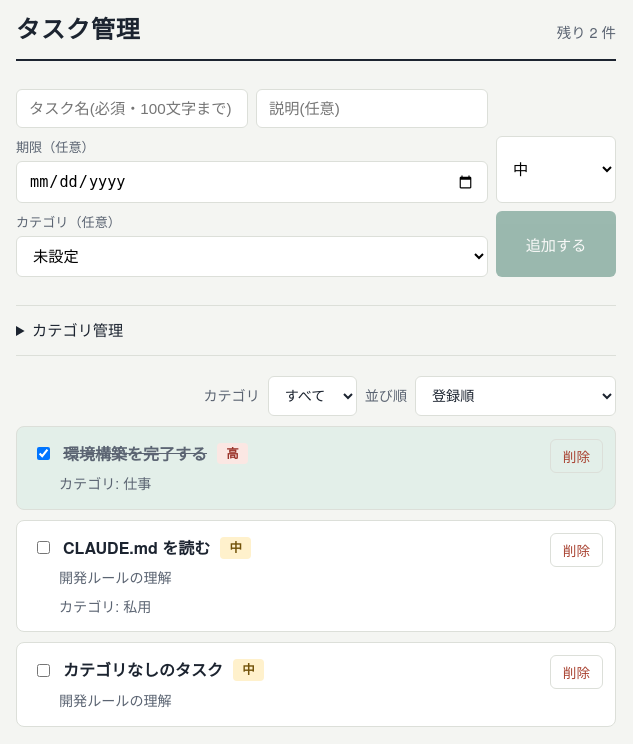
it: App › 各カテゴリで絞り込めて0件からすべてに戻すと未設定も表示される
expect the text "カテゴリなしのタスク" is shown: met, box left=63, top=657, right=223, bottom=683
Select "仕事" in the dropdown named "カテゴリで絞り込み" at (312, 396), box left=268, top=376, right=357, bottom=416
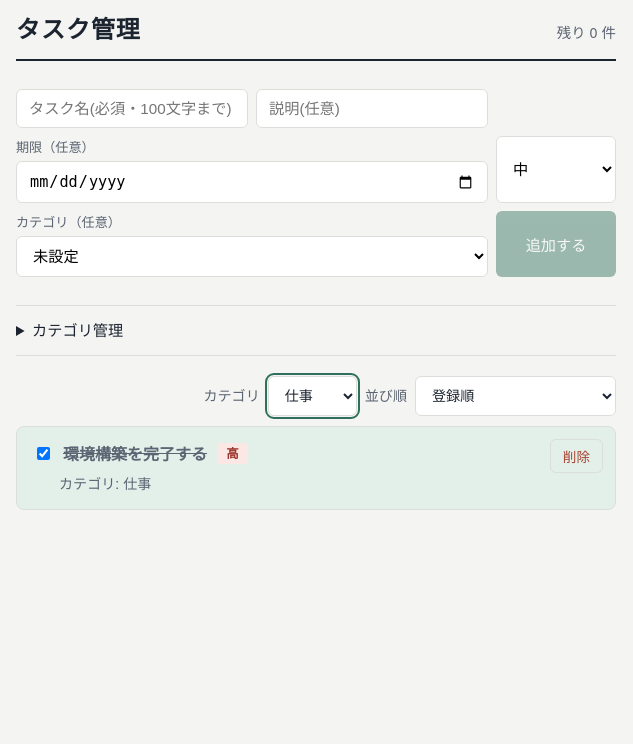
expect the text "環境構築を完了する" is shown: met, box left=63, top=441, right=207, bottom=466
expect the text "CLAUDE.md を読む" is gone: met
expect the text "カテゴリなしのタスク" is gone: met
Select "私用" in the dropdown named "カテゴリで絞り込み" at (312, 396), box left=268, top=376, right=357, bottom=416
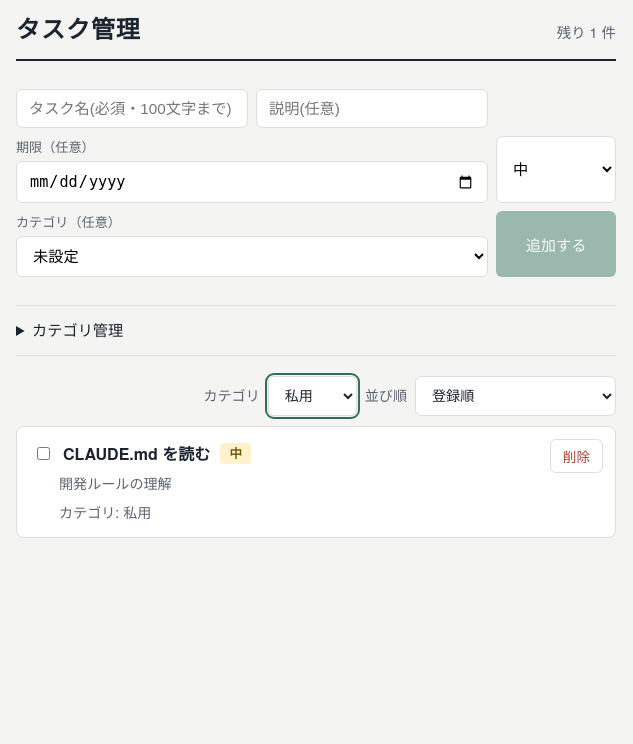
expect the text "CLAUDE.md を読む" is shown: met, box left=63, top=441, right=210, bottom=466
expect the text "環境構築を完了する" is gone: met
Select "勉強" in the dropdown named "カテゴリで絞り込み" at (312, 396), box left=268, top=376, right=357, bottom=416
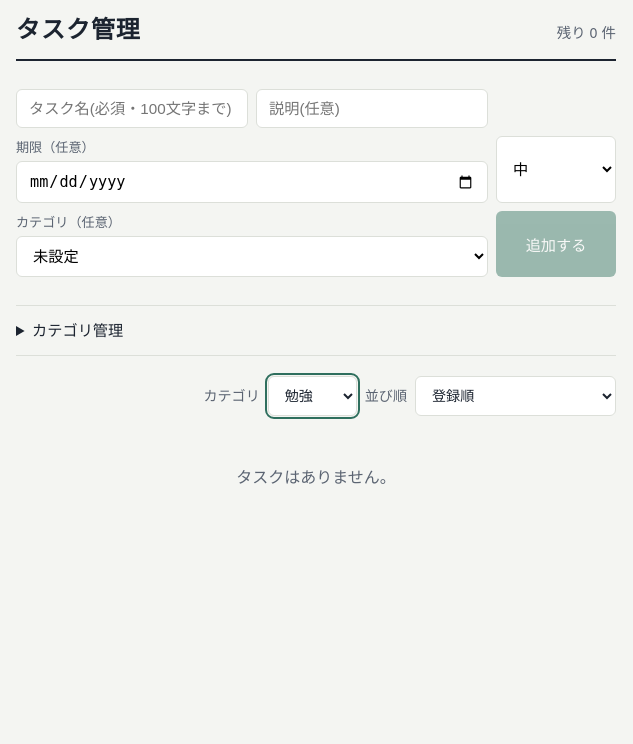
expect the text "タスクはありません。" is shown: met, box left=236, top=465, right=396, bottom=488
Select "すべて" in the dropdown named "カテゴリで絞り込み" at (312, 396), box left=268, top=376, right=357, bottom=416
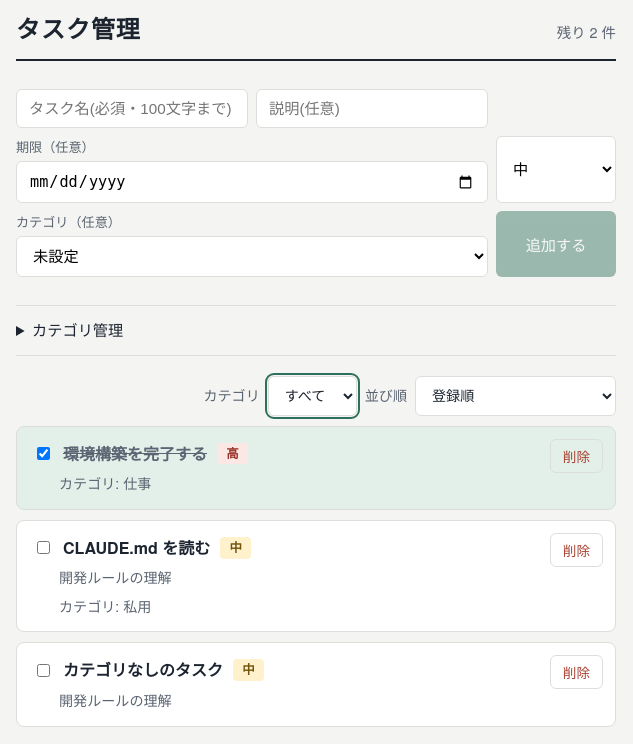
expect the text "カテゴリなしのタスク" is shown: met, box left=63, top=657, right=223, bottom=683
expect the text "環境構築を完了する" is shown: met, box left=63, top=441, right=207, bottom=466
expect the text "CLAUDE.md を読む" is shown: met, box left=63, top=535, right=210, bottom=560
